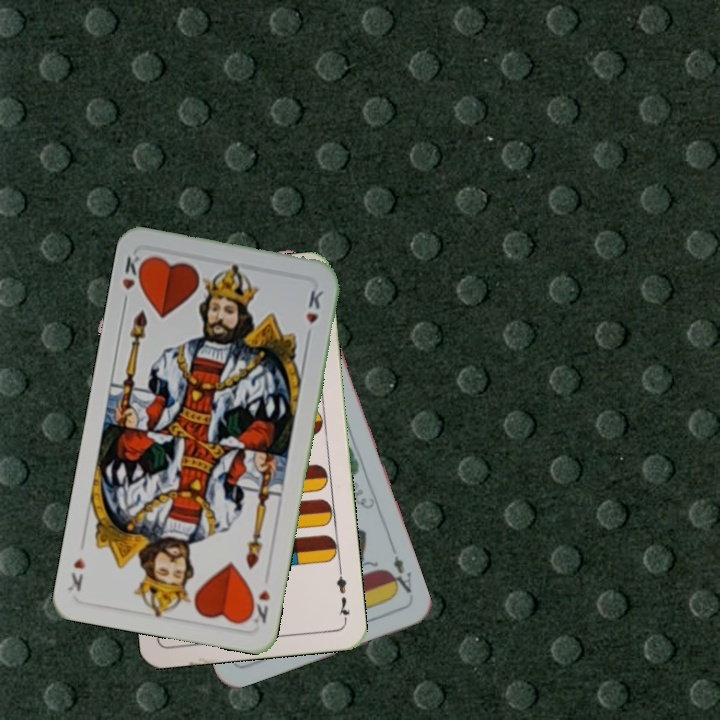E7: (332, 565, 353, 624)
EA: (383, 552, 415, 597)
HK: (118, 252, 149, 309), (244, 586, 273, 626)
